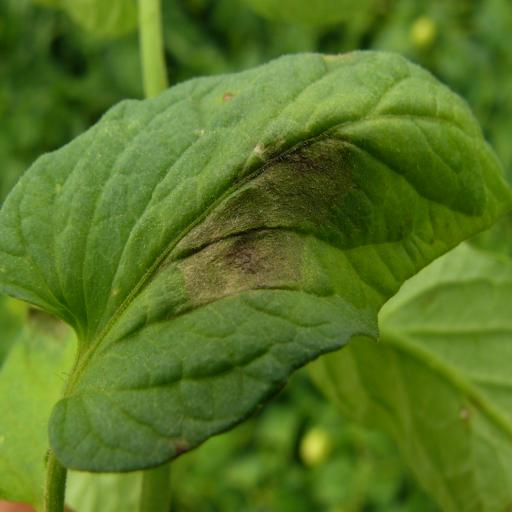Late Blight: (2, 44, 506, 478)
